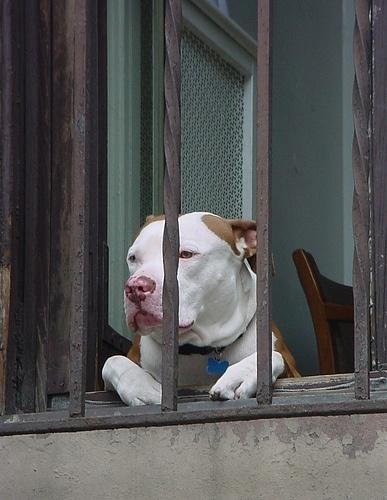dog: (100, 212, 303, 414)
